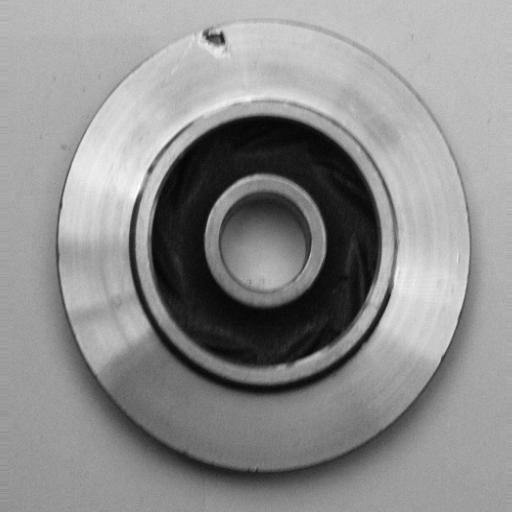crack: (187, 18, 248, 70)
unpolished_casting: (54, 19, 472, 477)
